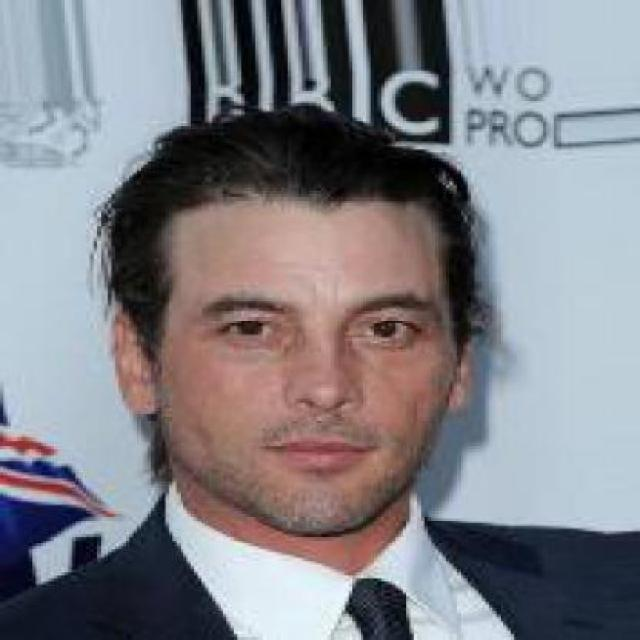closed-mouth: (262, 432, 381, 470)
